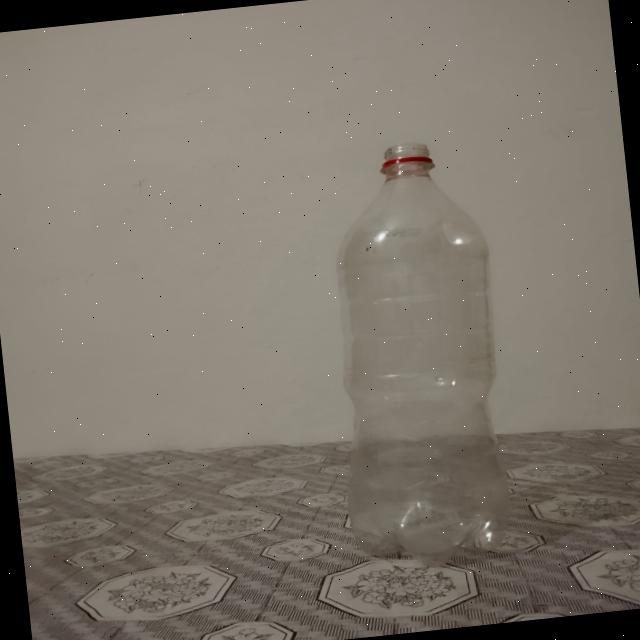bottle: (320, 135, 519, 570)
